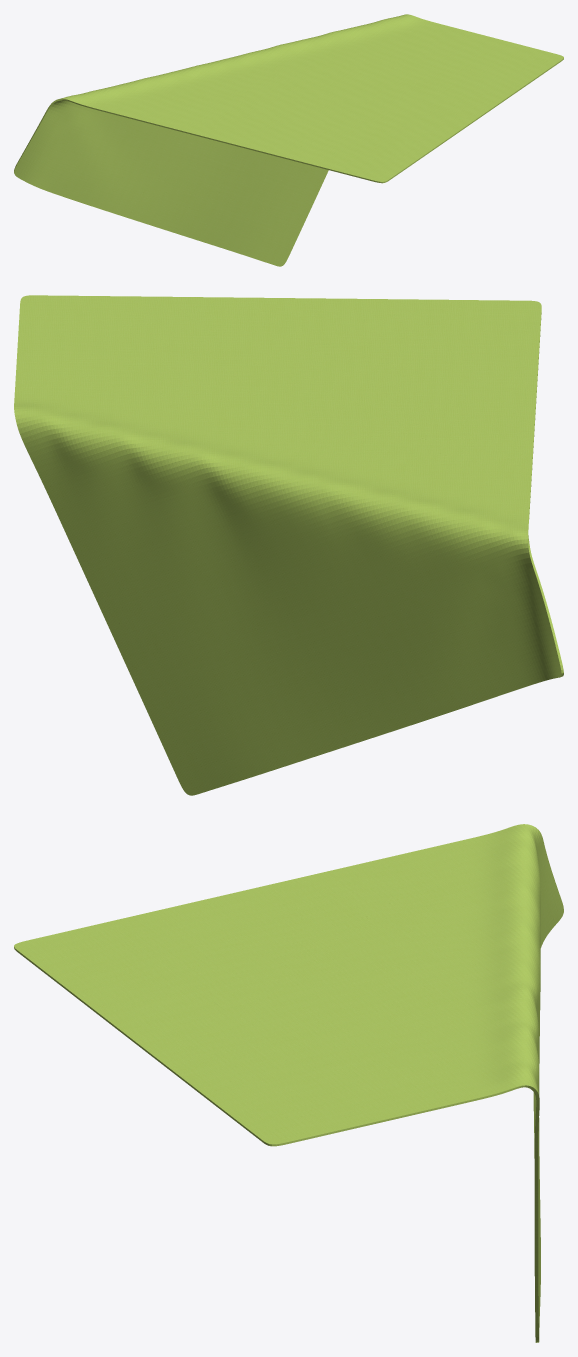
File: OBJEK4.fbx
3 renders of one model, top to bottom at view 1: azimuth 30°, elevation 25°; view 2: azimuth 150°, elevation 25°; view 3: azimuth 270°, elevation 25°, orthographic. The views are drawn at different scales.
Visible parts, largest first — view 1: Plane.001; view 2: Plane.001; view 3: Plane.001.
Part boxes in pixels (x1,y1,x2,y2): Plane.001: (14,14,563,266); Plane.001: (14,295,563,795); Plane.001: (14,824,563,1342).
Bounding box in the file's own units: 378 × 179 × 254.
1 material, 1 textured.
